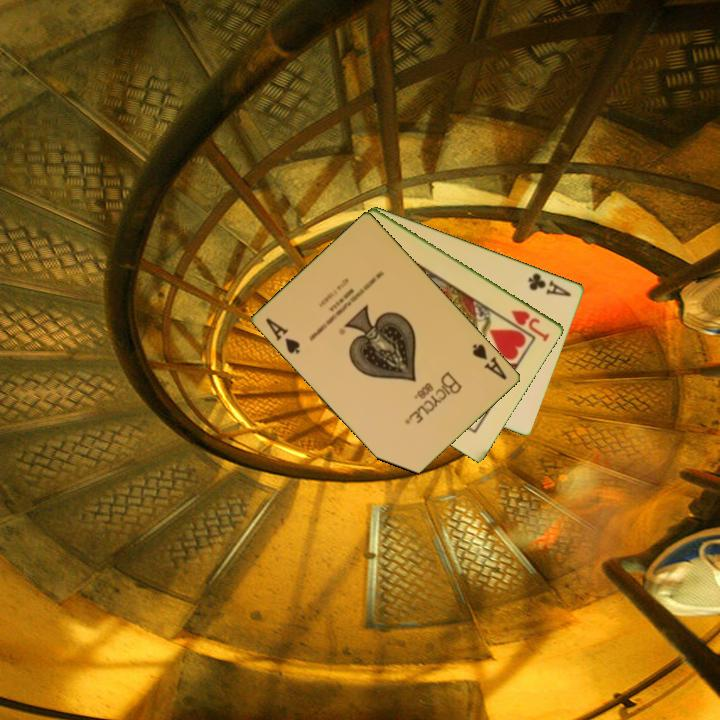Ac: (525, 269, 574, 300)
As: (469, 340, 510, 383), (262, 314, 303, 357)
Jh: (508, 306, 553, 344)
